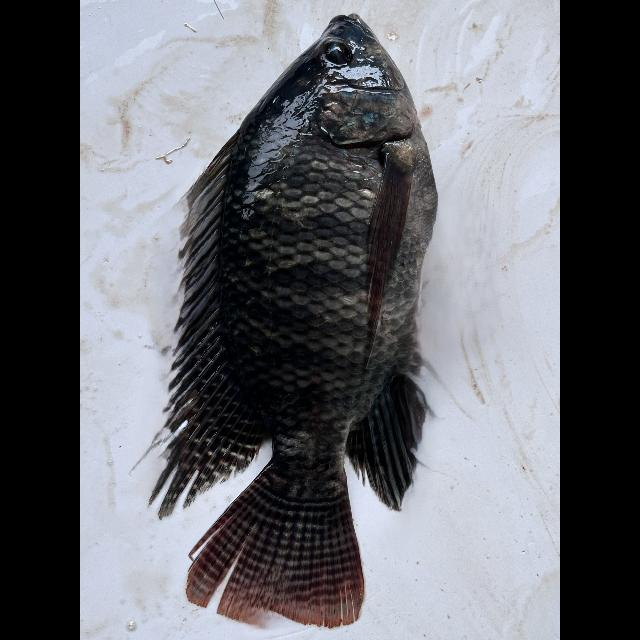Tilapia: (128, 11, 440, 632)
